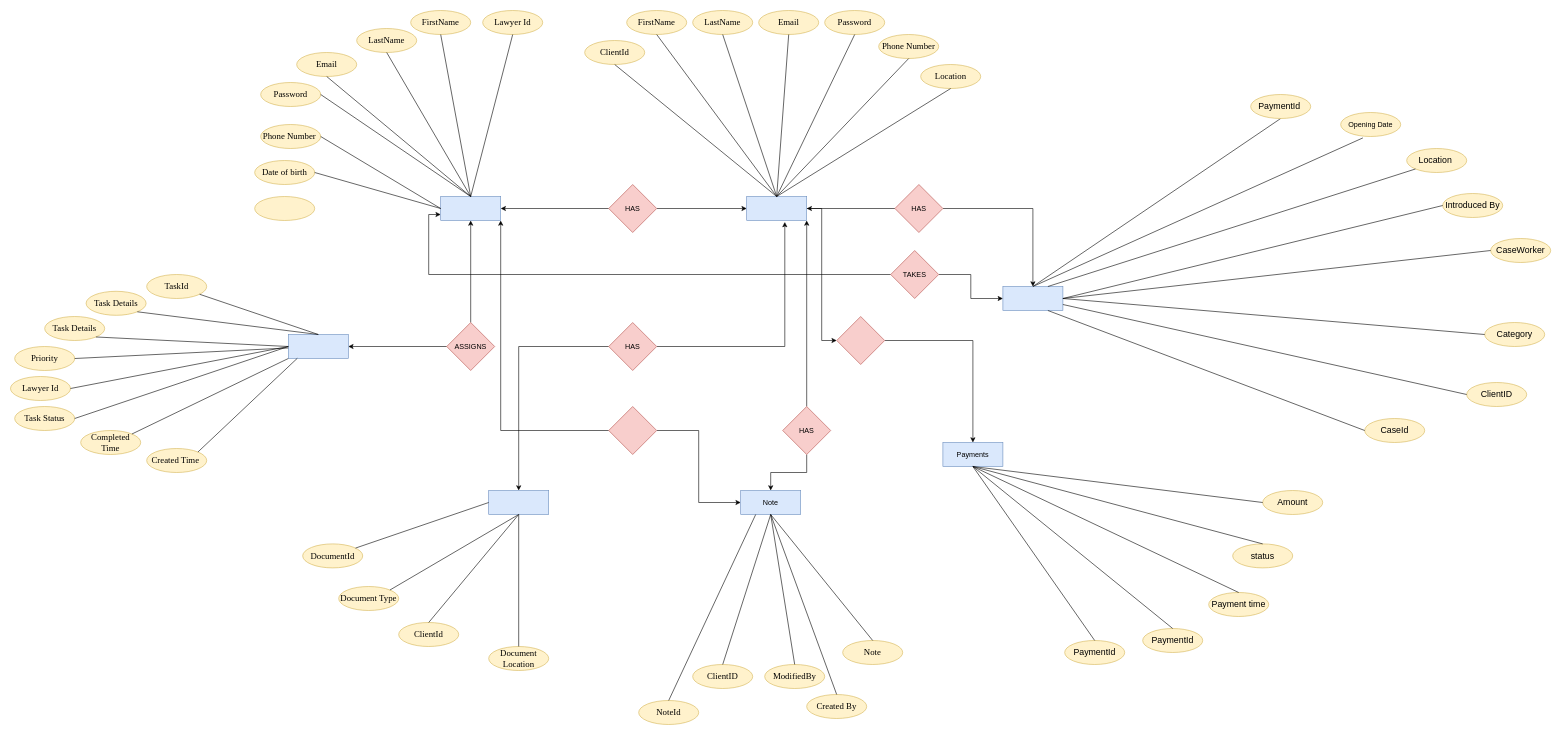
The diagram is 1561 pixels wide and 735 high, and some of its shapes have lost their labels. The shapes that lost their labels are listed below. From the top down, each one's centre as x and y in pixels, then its label:
At (x=284, y=208): "Sex".
At (x=470, y=208): "Lawyers".
At (x=776, y=208): "Clients".
At (x=1032, y=298): "Case".
At (x=318, y=346): "Tasks".
At (x=860, y=340): "MAKE".
At (x=632, y=430): "CREATES".
At (x=518, y=502): "Documents".
